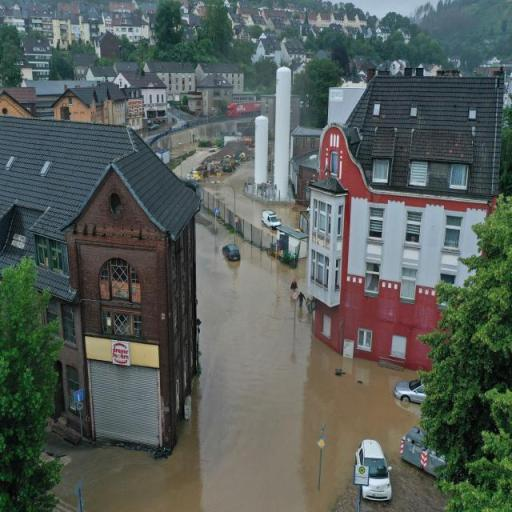flood: (48, 214, 445, 512), (202, 161, 306, 228), (151, 117, 255, 160), (173, 148, 217, 178), (288, 259, 306, 292)
house: (53, 123, 200, 450), (311, 76, 504, 295), (113, 72, 165, 122), (197, 62, 246, 91), (148, 62, 194, 92), (56, 87, 94, 123), (21, 34, 54, 72), (0, 89, 40, 120), (96, 81, 124, 118), (52, 18, 70, 48), (98, 32, 119, 57)
